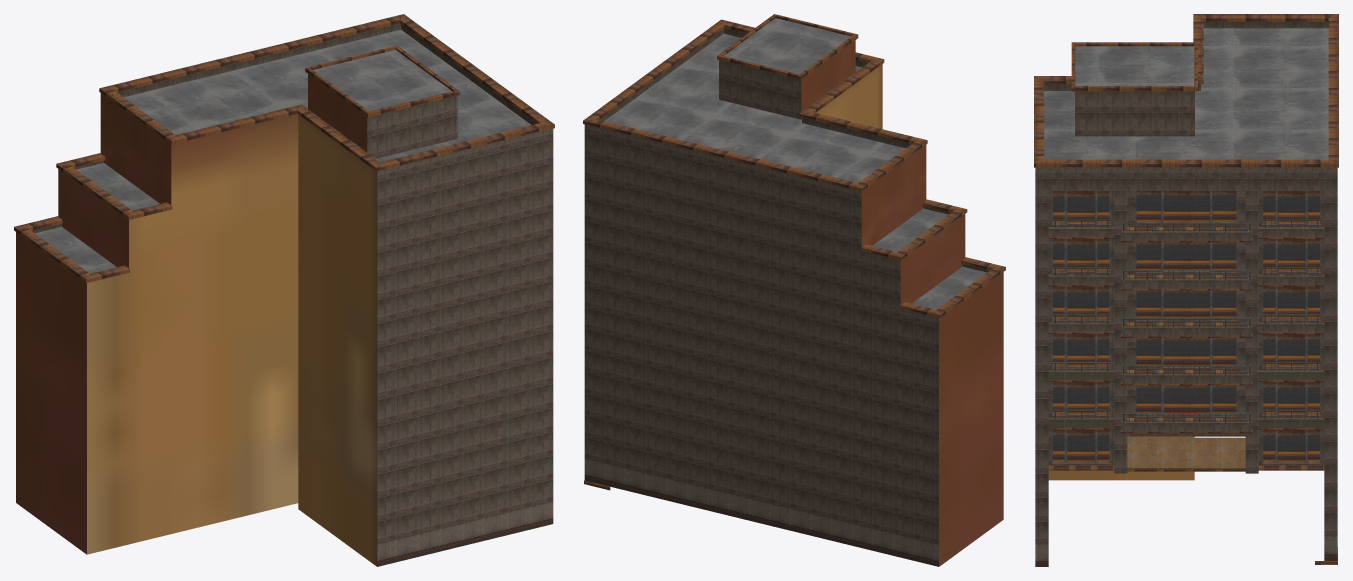
Rendered from House_02.fbx.
3 views of the same model, side by side, from view 1: azimuth 30°, elevation 25°; view 2: azimuth 150°, elevation 25°; view 3: azimuth 270°, elevation 25° (orthographic). The views are drawn at different scales.
Visible parts, largest first — view 1: Hotel_STR_House_02; view 2: Hotel_STR_House_02; view 3: Hotel_STR_House_02.
Part boxes in pixels (box(x1,y1,x2,y2)): Hotel_STR_House_02: box(14, 14, 554, 566); Hotel_STR_House_02: box(583, 14, 1005, 566); Hotel_STR_House_02: box(1034, 14, 1338, 566).
Bounding box in the file's own units: 2803 × 2971 × 1857.
Materials: 2 (2 with a texture image).
